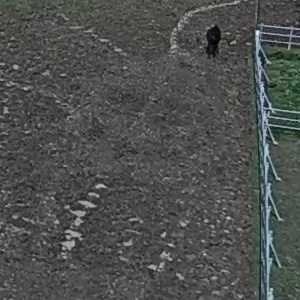cow: (196, 19, 234, 70)
